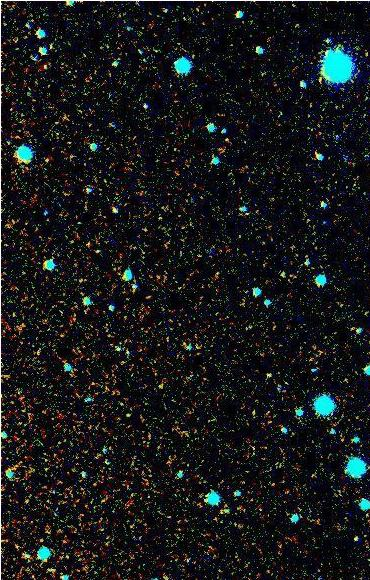star: (212, 124, 242, 154)
